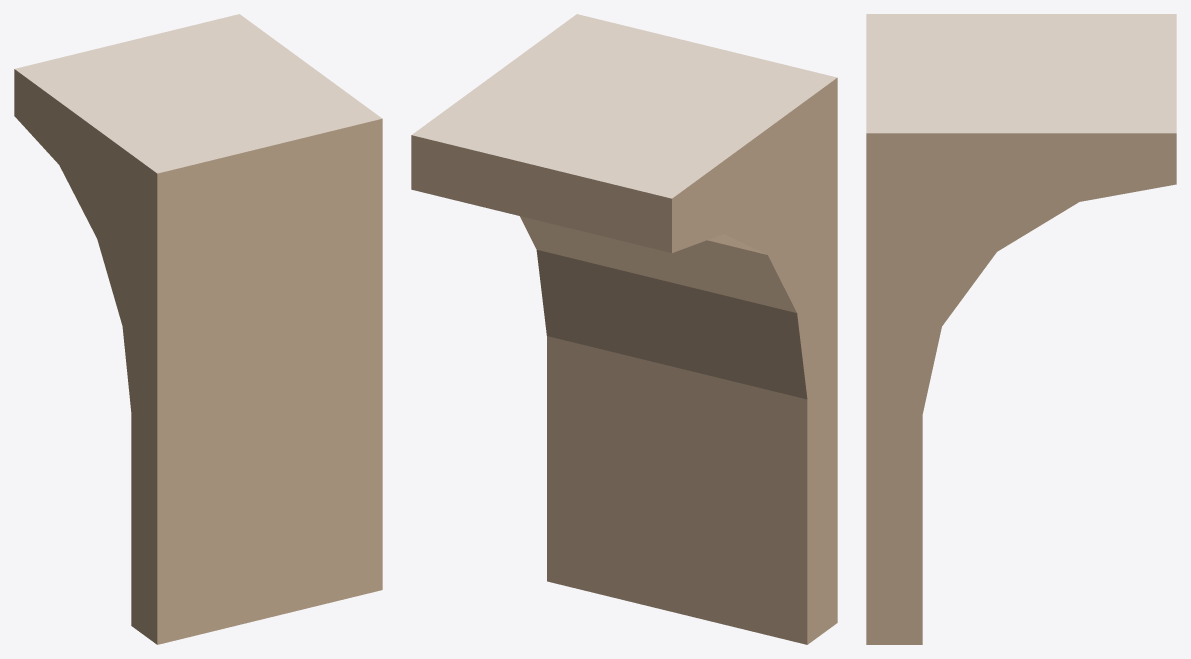
Rendered from Wall_Arch_Straight.fbx.
The picture shows the model from 3 angles, left to right: view 1: azimuth 30°, elevation 25°; view 2: azimuth 150°, elevation 25°; view 3: azimuth 270°, elevation 25°; orthographic projection. The views are drawn at different scales.
Visible parts, largest first — view 1: Sandstone_Trim.object1, Sandstone_Floor; view 2: Sandstone_Trim.object1, Sandstone_Floor; view 3: Sandstone_Trim.object1, Sandstone_Floor.
Boxes of the visible parts, x1,y1,x2,y2 form: Sandstone_Trim.object1: [14, 69, 382, 644]; Sandstone_Floor: [15, 14, 381, 173]; Sandstone_Trim.object1: [411, 78, 837, 644]; Sandstone_Floor: [412, 14, 837, 198]; Sandstone_Trim.object1: [866, 133, 1176, 644]; Sandstone_Floor: [866, 14, 1176, 133].
Bounding box in the file's own units: 1 × 2 × 1.1.
